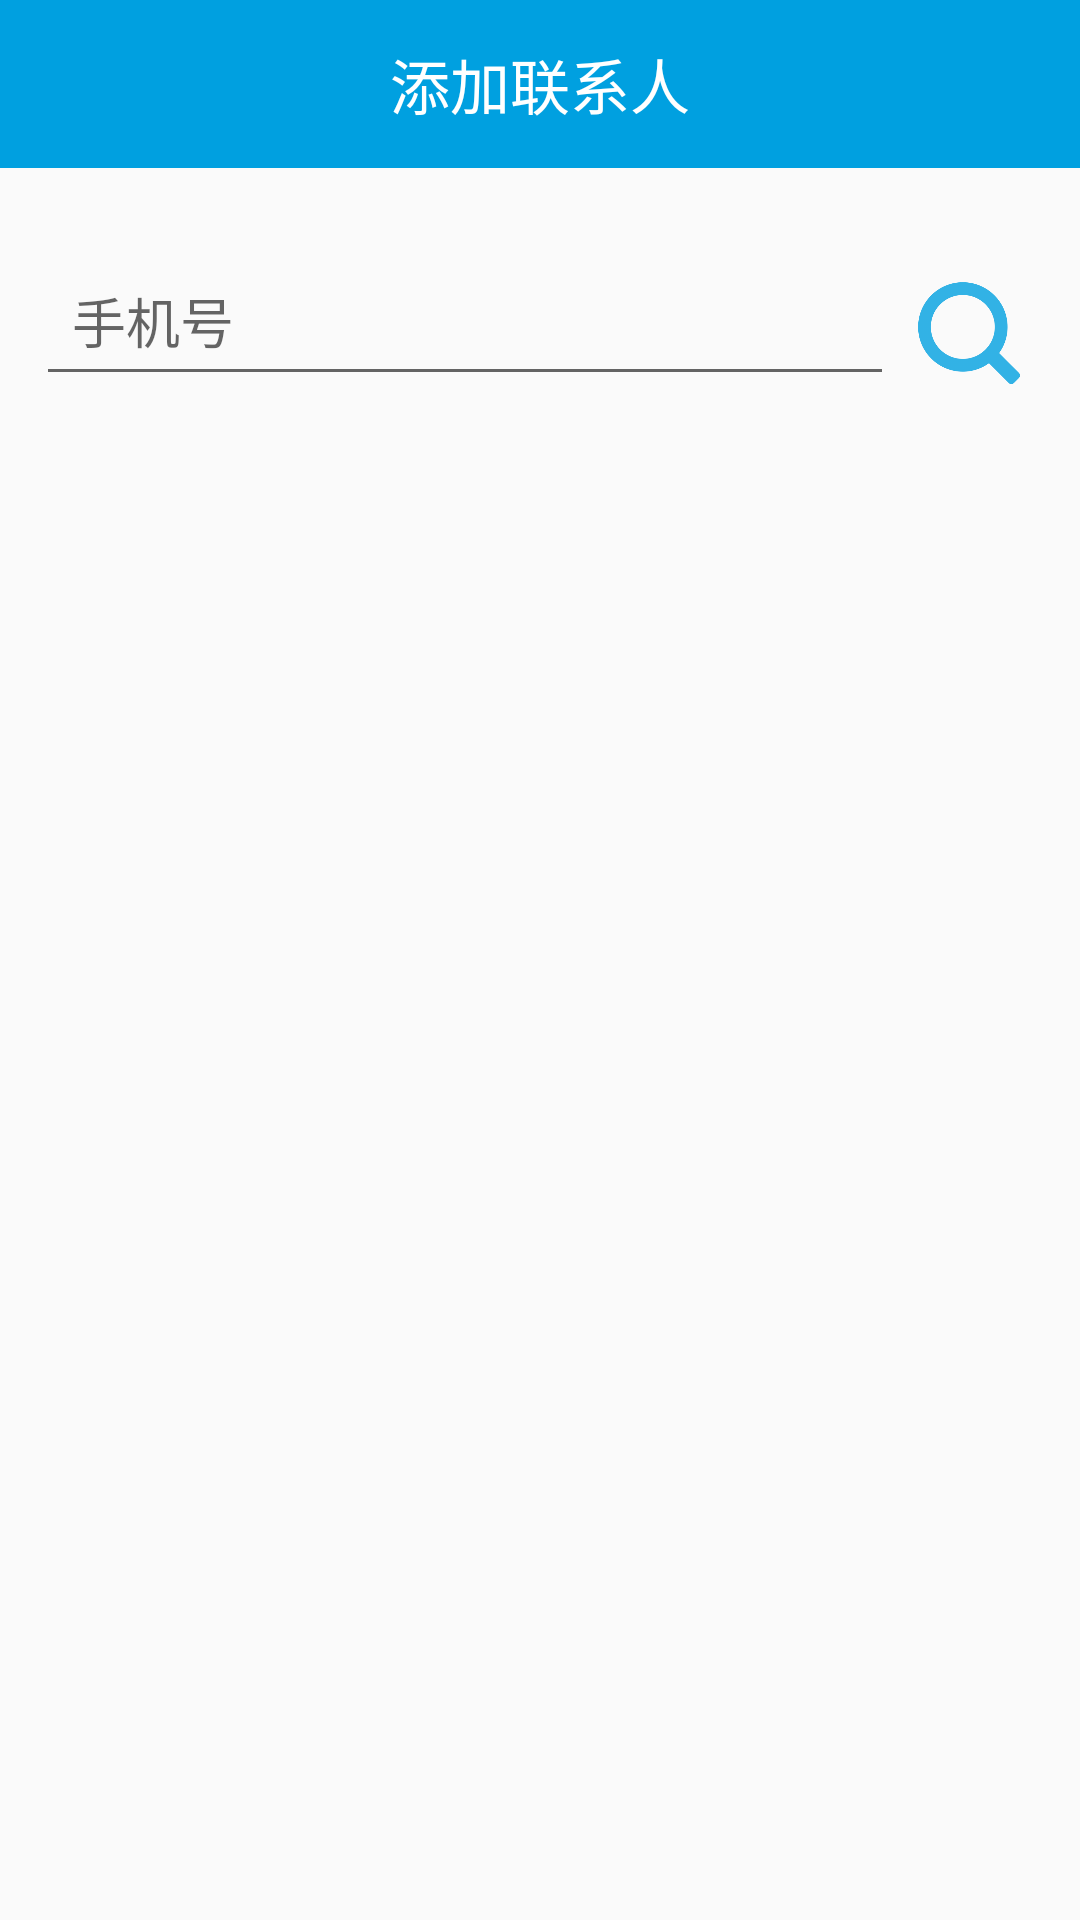

Where to tap for icons on this 1080w x 1920h app screen, as (x=x, y=y):
add search: (x=969, y=333)
